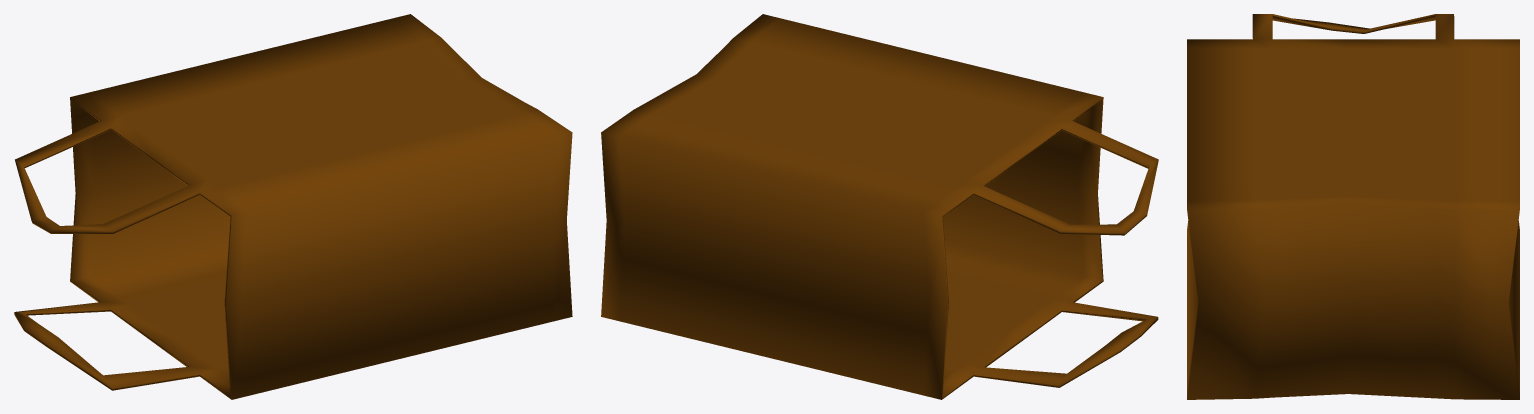
File: bolsa_compra_b.fbx
The picture shows the model from 3 angles, left to right: view 1: azimuth 30°, elevation 25°; view 2: azimuth 150°, elevation 25°; view 3: azimuth 270°, elevation 25°; orthographic projection. The views are drawn at different scales.
Parts seen in each view (by area): view 1: Bolsa Compra; view 2: Bolsa Compra; view 3: Bolsa Compra.
Boxes of the visible parts, x1,y1,x2,y2 form: Bolsa Compra: [14, 14, 572, 399]; Bolsa Compra: [601, 14, 1158, 399]; Bolsa Compra: [1187, 14, 1519, 399].
Size of the model in its own units: 336 by 130 by 208.
